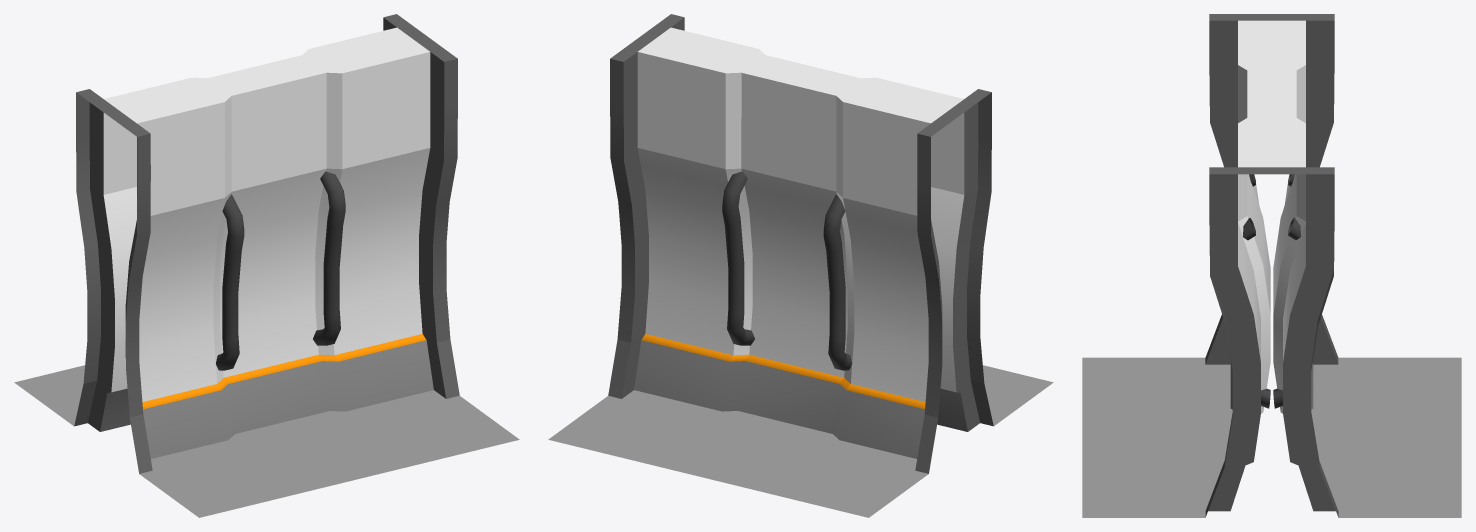
The model's file is SM_InteriorWall_04.fbx.
3 renders of one model, left to right at view 1: azimuth 30°, elevation 25°; view 2: azimuth 150°, elevation 25°; view 3: azimuth 270°, elevation 25°, orthographic. The views are drawn at different scales.
Visible parts, largest first — view 1: SM_InteriorWall_04; view 2: SM_InteriorWall_04; view 3: SM_InteriorWall_04.
Part boxes in pixels (x1,y1,x2,y2): SM_InteriorWall_04: (14, 14, 519, 517); SM_InteriorWall_04: (548, 14, 1053, 517); SM_InteriorWall_04: (1082, 14, 1461, 517).
Size of the model in its own units: 200 by 200 by 200.
1 material, 1 textured.
